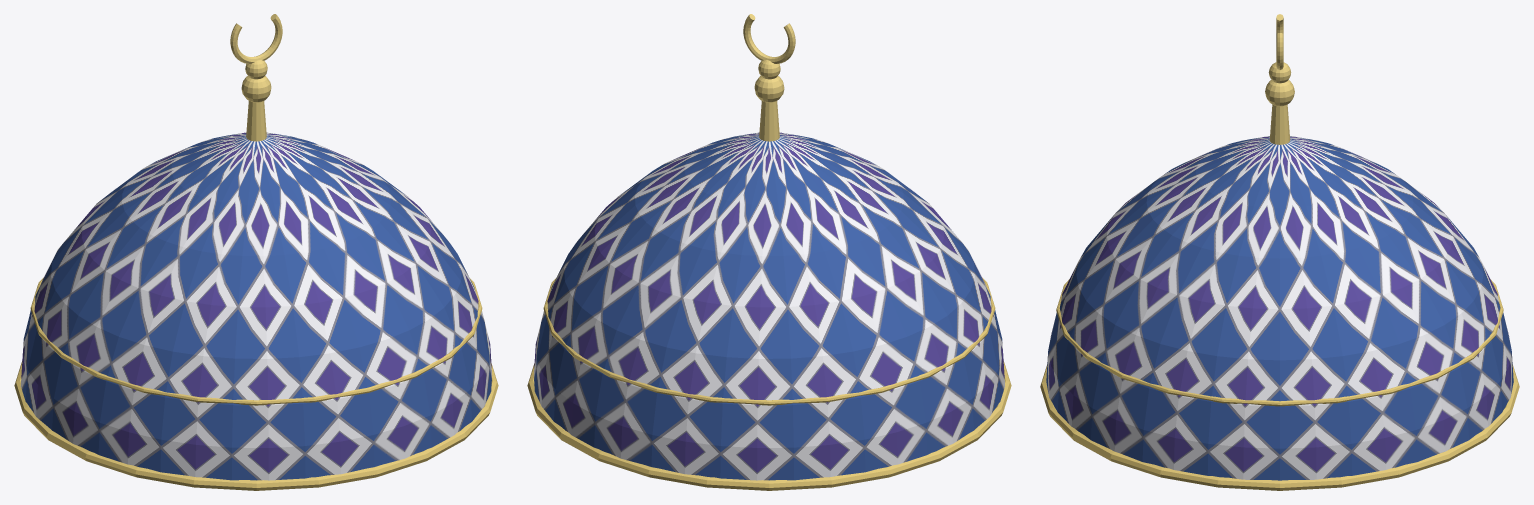
The model's file is n04-kubah-mozaik.glb.
3 views of the same model, side by side, from view 1: azimuth 30°, elevation 25°; view 2: azimuth 150°, elevation 25°; view 3: azimuth 270°, elevation 25° (orthographic).
Parts seen in each view (by area): view 1: EX_unri:kubah-mozaik, EX_unri:cincin-oker, EX_unri:mahkota-emas; view 2: EX_unri:kubah-mozaik, EX_unri:cincin-oker, EX_unri:mahkota-emas; view 3: EX_unri:kubah-mozaik, EX_unri:cincin-oker, EX_unri:mahkota-emas.
Boxes of the visible parts, x1,y1,x2,y2 form: EX_unri:kubah-mozaik: [21, 132, 492, 480]; EX_unri:cincin-oker: [14, 277, 498, 490]; EX_unri:mahkota-emas: [230, 14, 282, 141]; EX_unri:kubah-mozaik: [533, 132, 1004, 480]; EX_unri:cincin-oker: [527, 277, 1011, 490]; EX_unri:mahkota-emas: [743, 14, 795, 141]; EX_unri:kubah-mozaik: [1046, 136, 1513, 480]; EX_unri:cincin-oker: [1040, 279, 1519, 490]; EX_unri:mahkota-emas: [1265, 14, 1294, 144].
Bounding box in the file's own units: 10.24 × 8.68 × 10.24.
3 materials, 1 textured.
